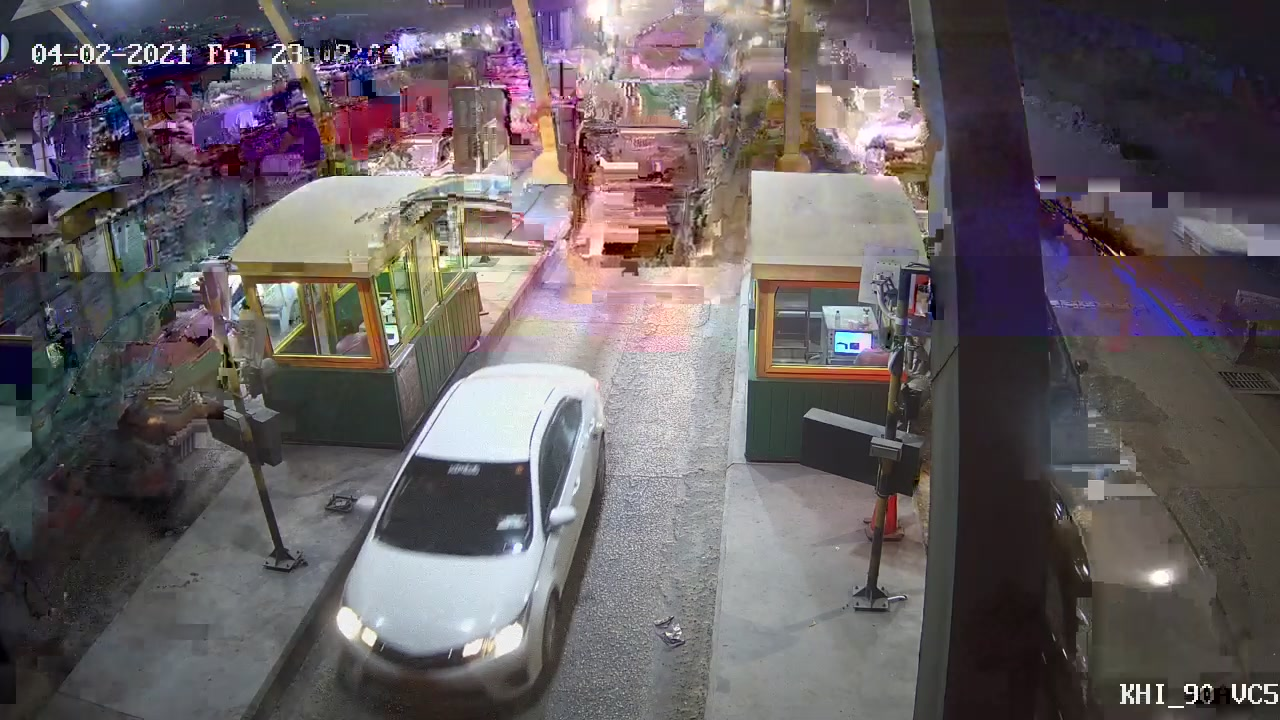F1: (330, 356, 613, 706)
